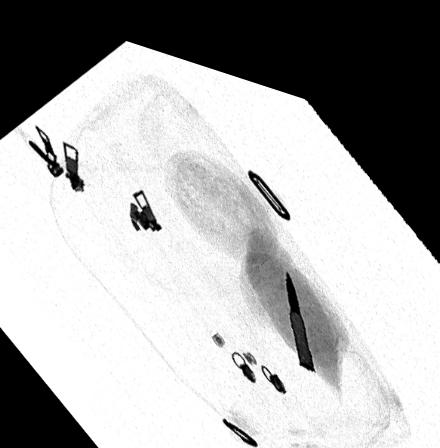Bullet: (284, 247, 315, 355)
